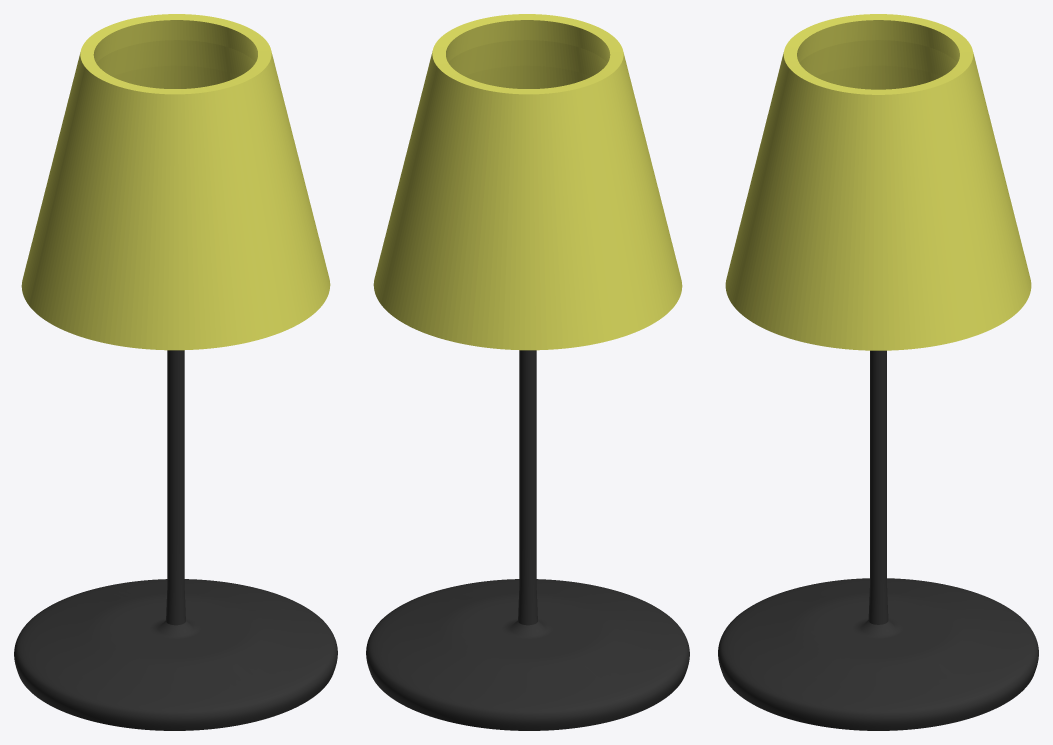
Rendered from compressed_DeskLamp.glb.
3 views of the same model, side by side, from view 1: azimuth 30°, elevation 25°; view 2: azimuth 150°, elevation 25°; view 3: azimuth 270°, elevation 25° (orthographic).
Visible parts, largest first — view 1: Circle, Circle.001; view 2: Circle, Circle.001; view 3: Circle, Circle.001.
Part boxes in pixels (box(x1,y1,x2,y2)): Circle: box(21, 14, 330, 350); Circle.001: box(14, 350, 337, 730); Circle: box(373, 14, 682, 350); Circle.001: box(366, 350, 689, 730); Circle: box(725, 14, 1031, 350); Circle.001: box(718, 350, 1038, 730).
Size of the model in its own units: 0.2519 by 0.5221 by 0.2494.
